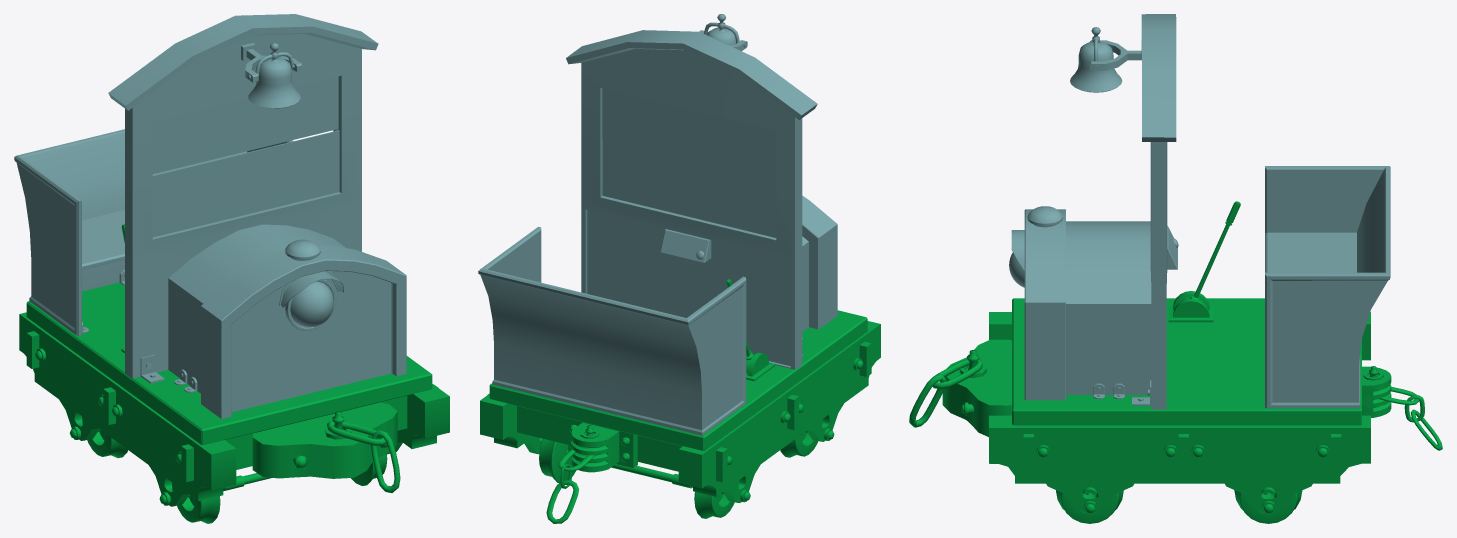
File: Locomotive.fbx
3 views of the same model, side by side, from view 1: azimuth 30°, elevation 25°; view 2: azimuth 150°, elevation 25°; view 3: azimuth 270°, elevation 25° (orthographic). The views are drawn at different scales.
Visible parts, largest first — view 1: Locomotive_, vidro, sino, Rodas_1, corrente, Rodas_2; view 2: Locomotive_, vidro, Rodas_2, corrente1, Rodas_1; view 3: Locomotive_, sino, corrente, Rodas_1, Rodas_2, corrente1, alavanca.
Boxes of the visible parts, box(x1,y1,x2,y2) form: Locomotive_: box(14, 14, 449, 506); vidro: box(152, 76, 339, 237); sino: box(248, 43, 300, 108); Rodas_1: box(177, 454, 387, 523); corrente: box(327, 421, 400, 492); Rodas_2: box(87, 429, 127, 458); Locomotive_: box(478, 22, 880, 502); vidro: box(602, 88, 776, 237); Rodas_2: box(539, 438, 734, 518); corrente1: box(546, 449, 594, 523); Rodas_1: box(780, 431, 818, 457); Locomotive_: box(942, 14, 1391, 514); sino: box(1070, 27, 1122, 92); corrente: box(909, 358, 982, 427); Rodas_1: box(1056, 486, 1123, 523); Rodas_2: box(1234, 486, 1302, 523); corrente1: box(1379, 387, 1442, 450); alavanca: box(1190, 201, 1240, 300).
Size of the model in its own units: 209 by 358 by 380.
